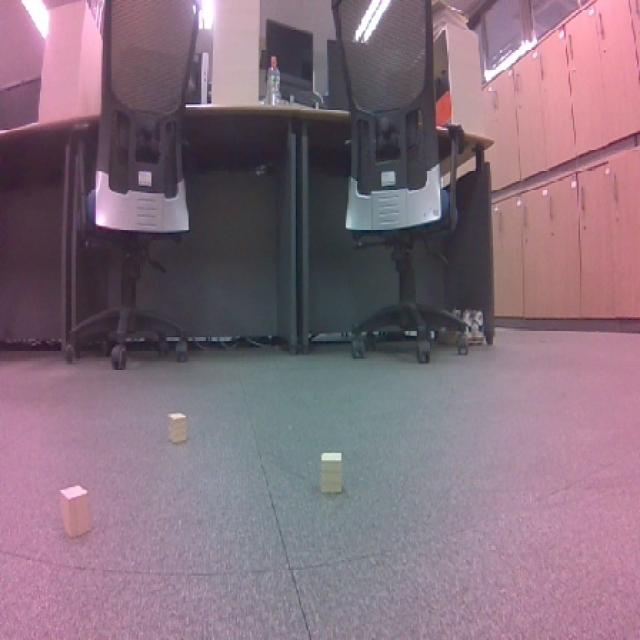obstacle: (53, 479, 102, 543), (315, 450, 348, 499), (162, 406, 193, 450)
